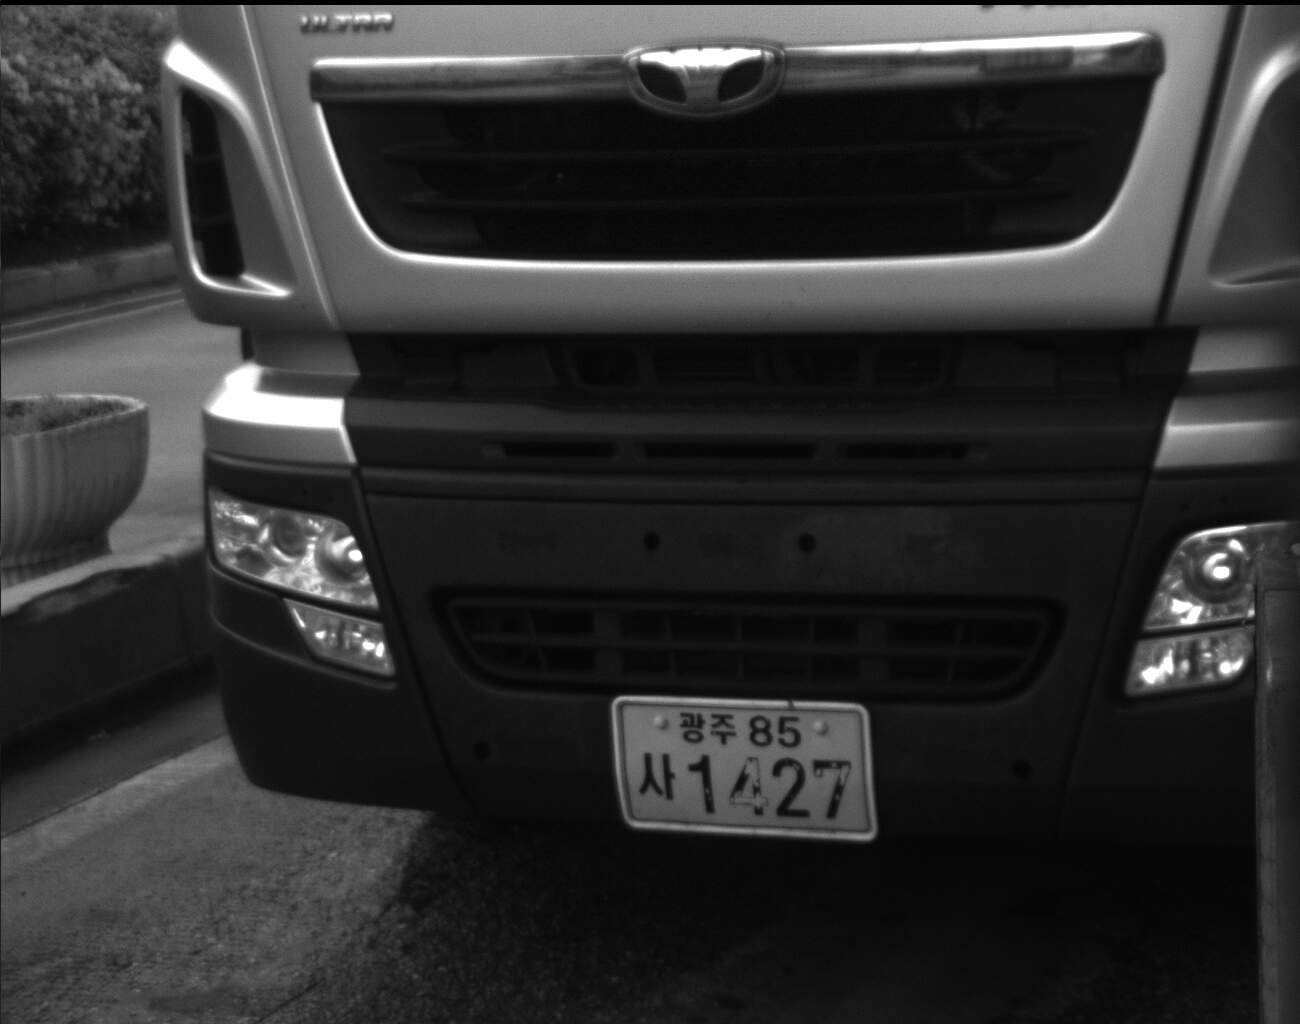car: (160, 5, 1300, 862)
plate: (609, 696, 874, 840)
